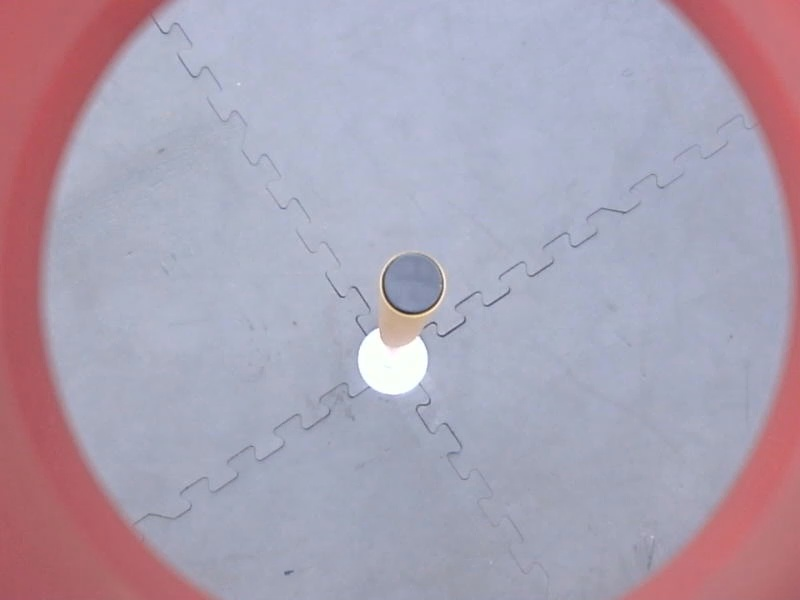tip: (376, 248, 450, 319)
